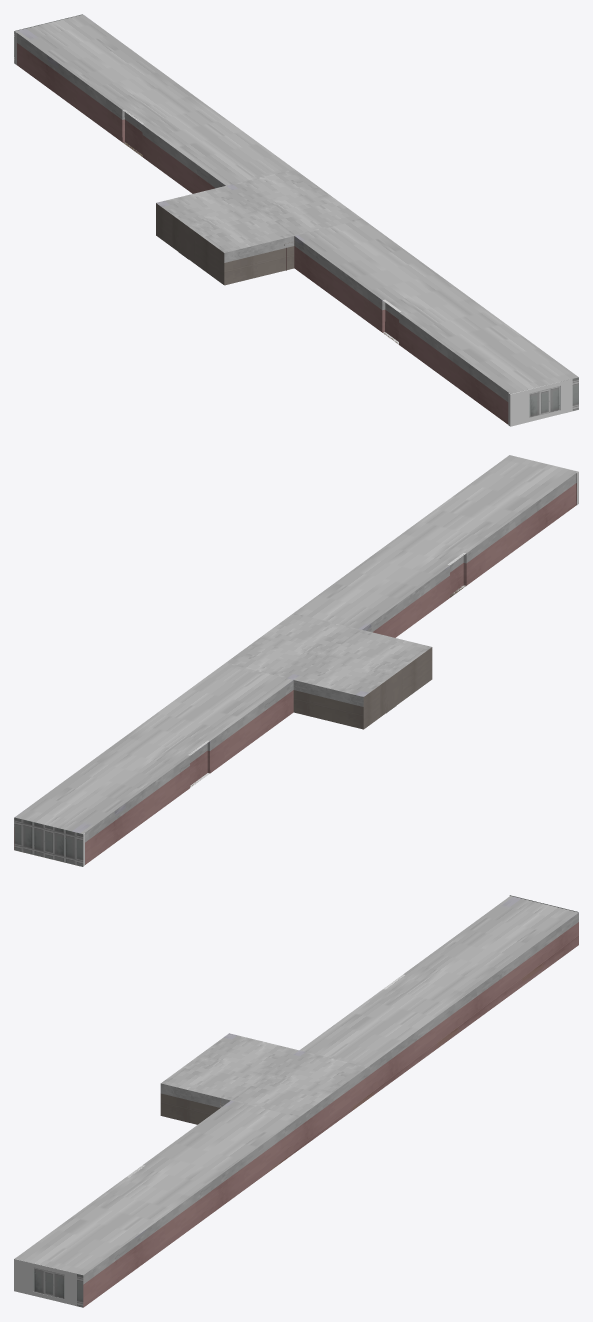
The model's file is maplvl0.fbx.
3 views of the same model, one above another, from view 1: azimuth 30°, elevation 25°; view 2: azimuth 150°, elevation 25°; view 3: azimuth 330°, elevation 25° (orthographic).
Visible parts, largest first — view 1: Cube.014, Cube.006, Cube.007, Cube.013, Cube, Cube.009; view 2: Cube.014, Cube.006, Cube, Cube.007, Cube.009; view 3: Cube.014, Cube.006, Cube.013, Cube.
Part boxes in pixels (x1,y1,x2,y2): Cube.014: [15, 14, 578, 393]; Cube.006: [17, 33, 508, 424]; Cube.007: [156, 203, 224, 284]; Cube.013: [14, 31, 572, 426]; Cube: [14, 14, 578, 417]; Cube.009: [172, 215, 194, 263]; Cube.014: [15, 455, 577, 833]; Cube.006: [14, 473, 576, 864]; Cube: [14, 817, 83, 866]; Cube.007: [363, 647, 432, 729]; Cube.009: [380, 668, 402, 717]; Cube.014: [15, 896, 578, 1275]; Cube.006: [83, 913, 578, 1307]; Cube.013: [14, 896, 509, 1305]; Cube: [26, 895, 578, 1307].
Bounding box in the file's own units: 7408 × 1706 × 45892.
